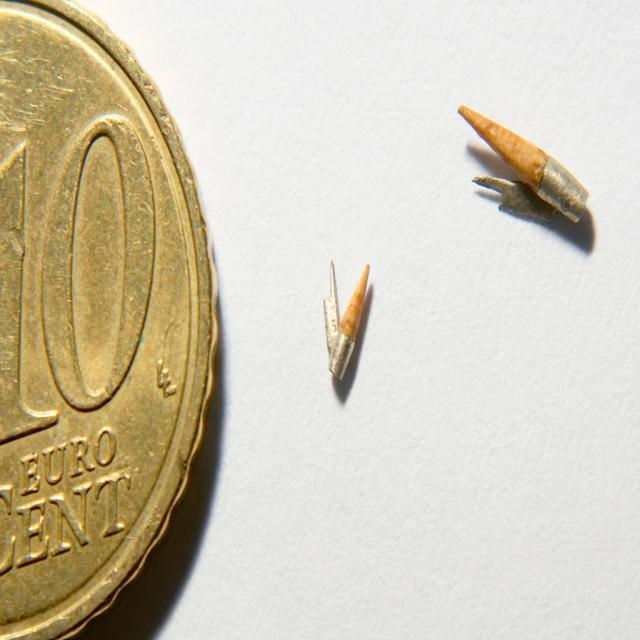Coin: (0, 0, 219, 639)
